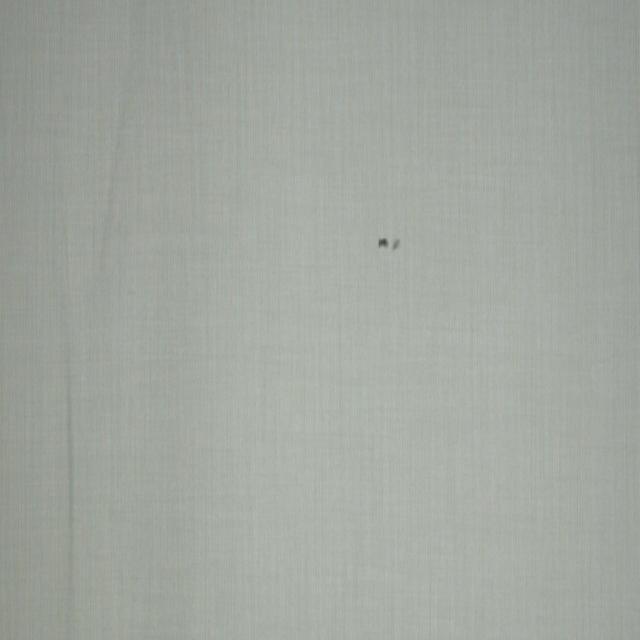dirty: (378, 238, 401, 250)
